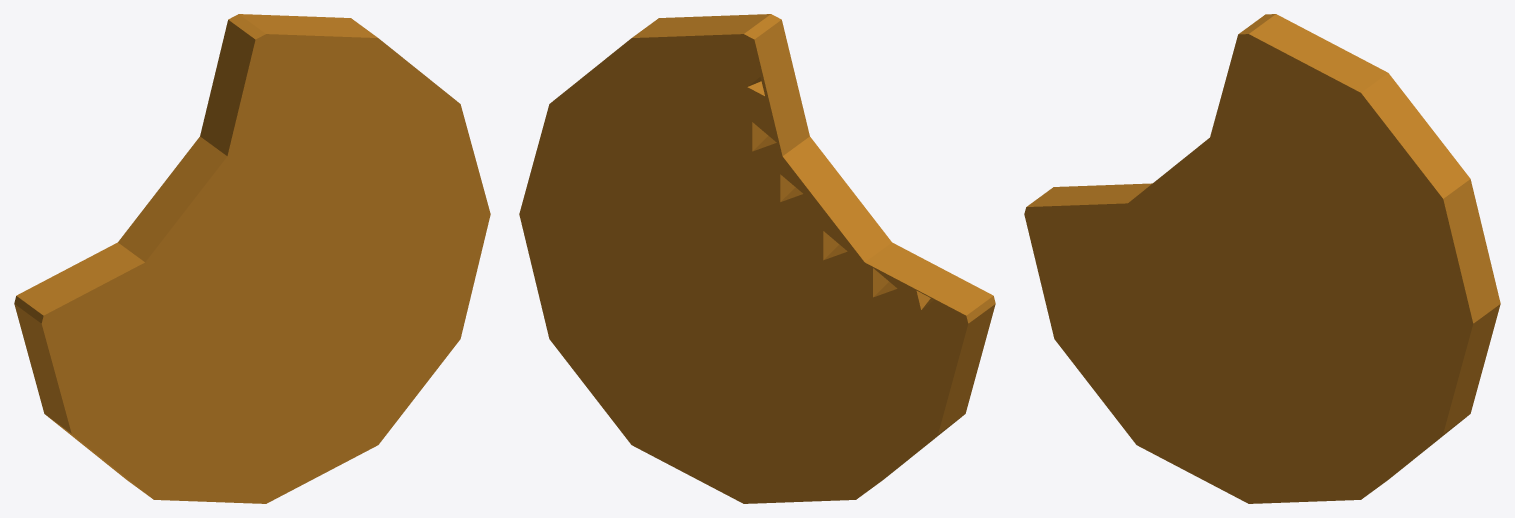
The model's file is Mdl_Bitcoin.fbx.
The picture shows the model from 3 angles, left to right: view 1: azimuth 30°, elevation 25°; view 2: azimuth 150°, elevation 25°; view 3: azimuth 330°, elevation 25°; orthographic projection.
Visible parts, largest first — view 1: Mdl_Bitcoin; view 2: Mdl_Bitcoin; view 3: Mdl_Bitcoin.
Boxes of the visible parts, x1,y1,x2,y2 form: Mdl_Bitcoin: (14,14,490,503); Mdl_Bitcoin: (519,14,995,503); Mdl_Bitcoin: (1024,14,1500,503).
Size of the model in its own units: 2.62 by 2.62 by 0.2768.
